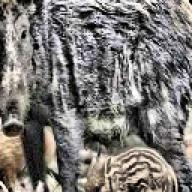boar: (0, 0, 192, 192), (84, 144, 178, 192)
